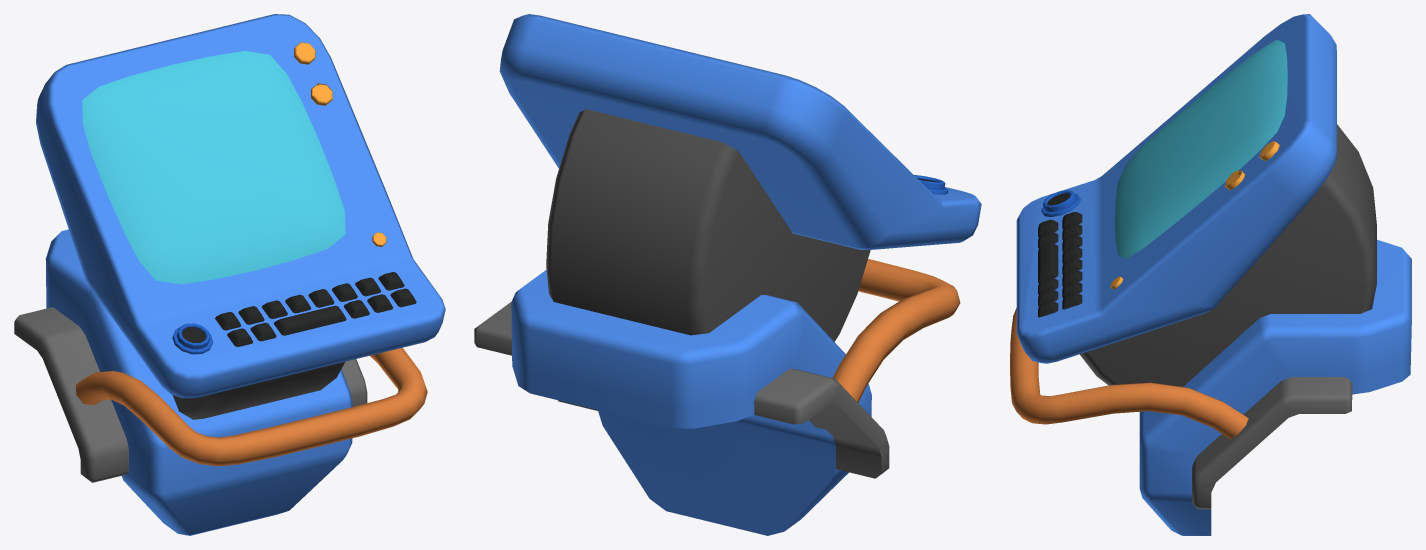
The model's file is terminal_002.fbx.
3 renders of one model, left to right at view 1: azimuth 30°, elevation 25°; view 2: azimuth 150°, elevation 25°; view 3: azimuth 270°, elevation 25°, orthographic. The views are drawn at different scales.
Visible parts, largest first — view 1: terminal_002; view 2: terminal_002; view 3: terminal_002.
Part boxes in pixels (<box>): terminal_002: <box>14,14,445,535</box>; terminal_002: <box>474,14,981,535</box>; terminal_002: <box>1010,14,1411,535</box>.
Size of the model in its own units: 201 by 248 by 303.
